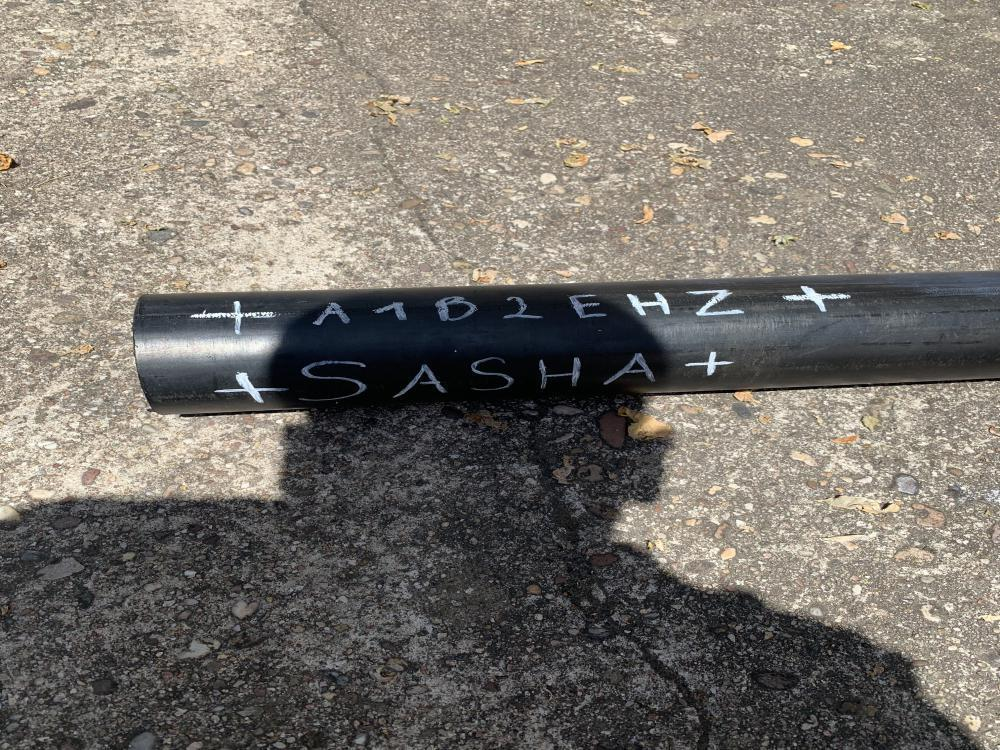+: (192, 301, 277, 334), (212, 370, 292, 404), (784, 285, 851, 312), (684, 350, 735, 376)
1: (372, 300, 411, 321)
2: (501, 296, 544, 320)
A: (395, 364, 448, 398), (605, 354, 656, 386), (312, 302, 351, 326)
B: (435, 295, 478, 323)
E: (568, 294, 607, 318)
H: (538, 356, 580, 390), (624, 292, 672, 316)
S: (298, 360, 367, 402), (472, 357, 514, 392)
Z: (686, 290, 746, 317)
